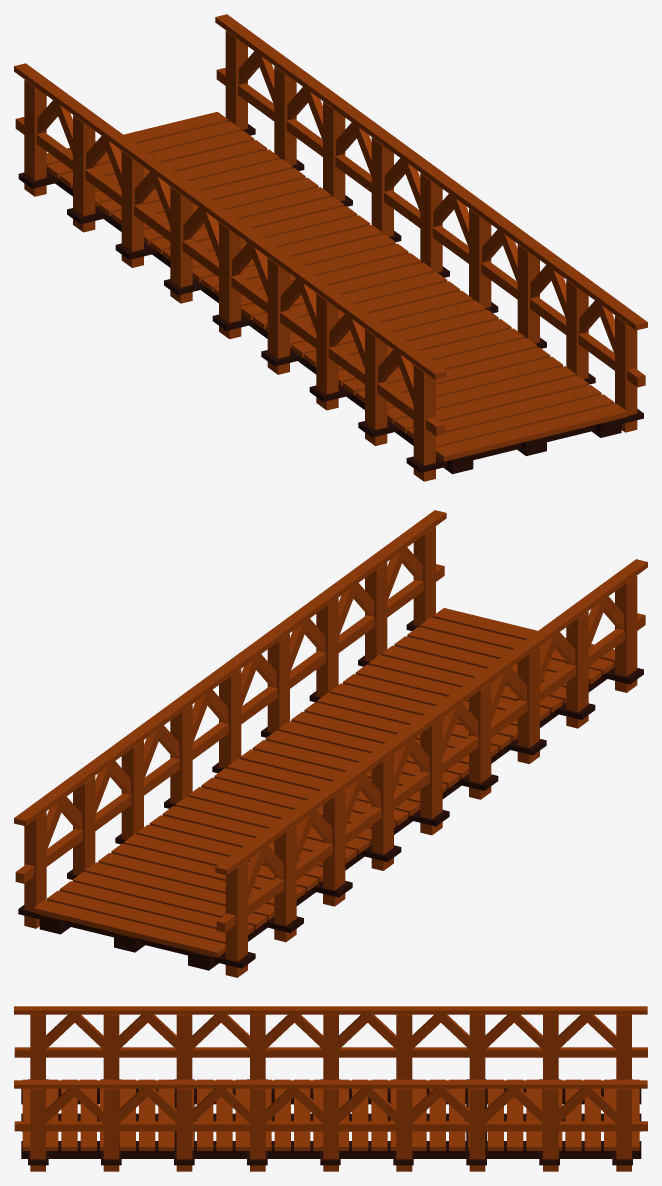
The model's file is PuenteRecto.fbx.
The picture shows the model from 3 angles, top to bottom: view 1: azimuth 30°, elevation 25°; view 2: azimuth 150°, elevation 25°; view 3: azimuth 270°, elevation 25°; orthographic projection. The views are drawn at different scales.
Visible parts, largest first — view 1: Box066; view 2: Box066; view 3: Box066.
Boxes of the visible parts, <box> form: Box066: <box>14,14,647,481</box>; Box066: <box>14,510,647,977</box>; Box066: <box>14,1006,647,1171</box>.
Bounding box in the file's own units: 45.79 × 22.58 × 149.
